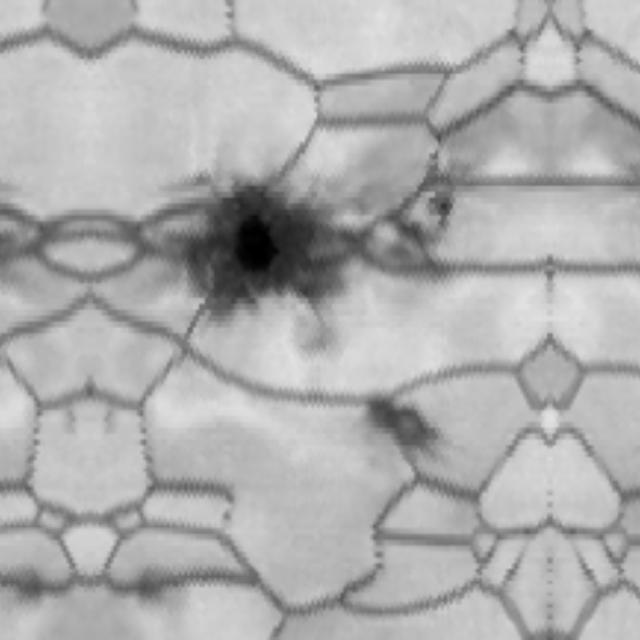good_void: (167, 173, 363, 332), (352, 385, 456, 468), (369, 208, 458, 282), (128, 563, 193, 613), (288, 316, 345, 362), (0, 563, 50, 613), (426, 181, 459, 225), (98, 402, 124, 439), (54, 402, 80, 439)
